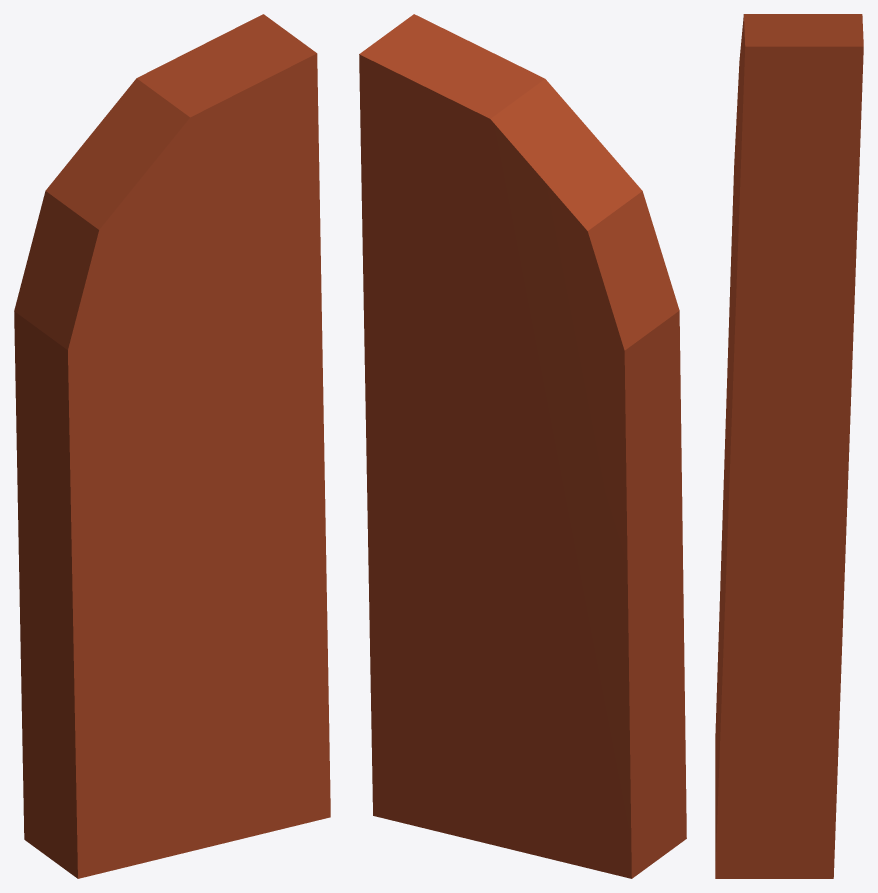
File: door_R.fbx
The picture shows the model from 3 angles, left to right: view 1: azimuth 30°, elevation 25°; view 2: azimuth 150°, elevation 25°; view 3: azimuth 270°, elevation 25°; orthographic projection. The views are drawn at different scales.
Visible parts, largest first — view 1: door_R; view 2: door_R; view 3: door_R.
Boxes of the visible parts, x1,y1,x2,y2 form: door_R: [14, 14, 330, 878]; door_R: [359, 14, 686, 878]; door_R: [715, 14, 863, 878].
Bounding box in the file's own units: 55.92 × 158 × 25.64.
